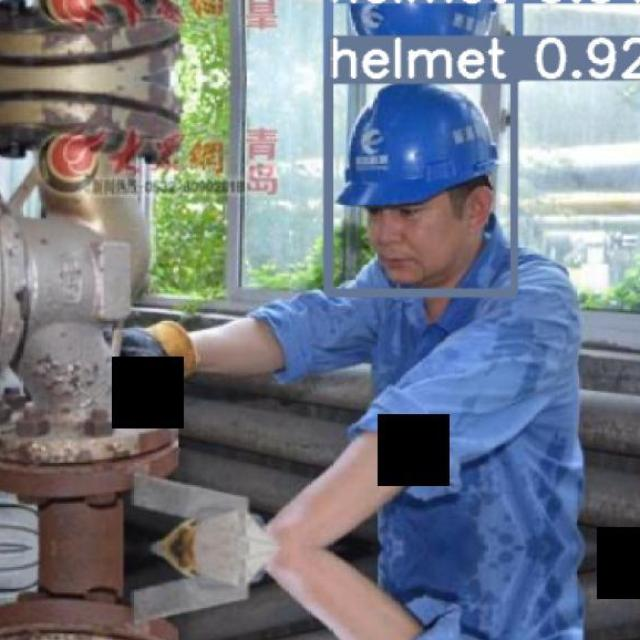helmet: (334, 82, 498, 208)
